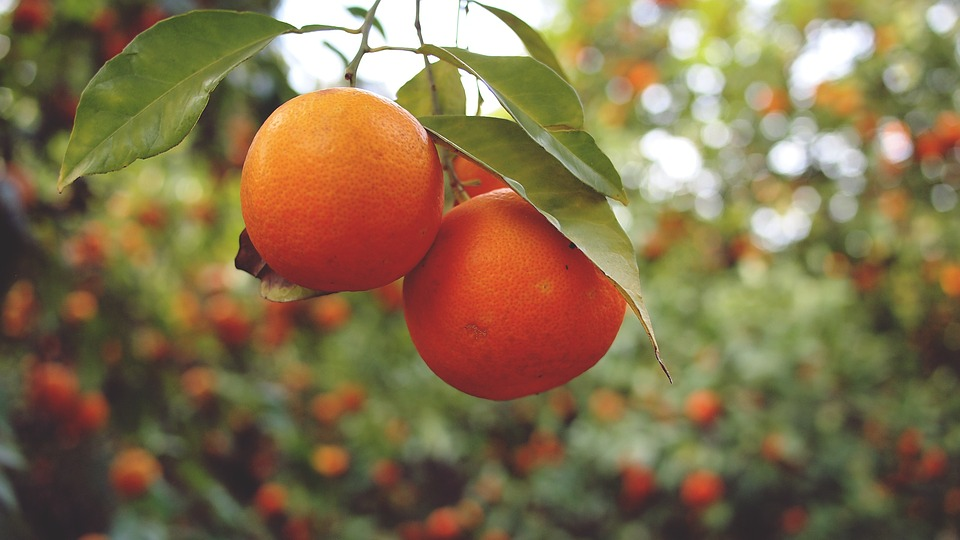portakal: (453, 172, 676, 406), (233, 67, 431, 292)
